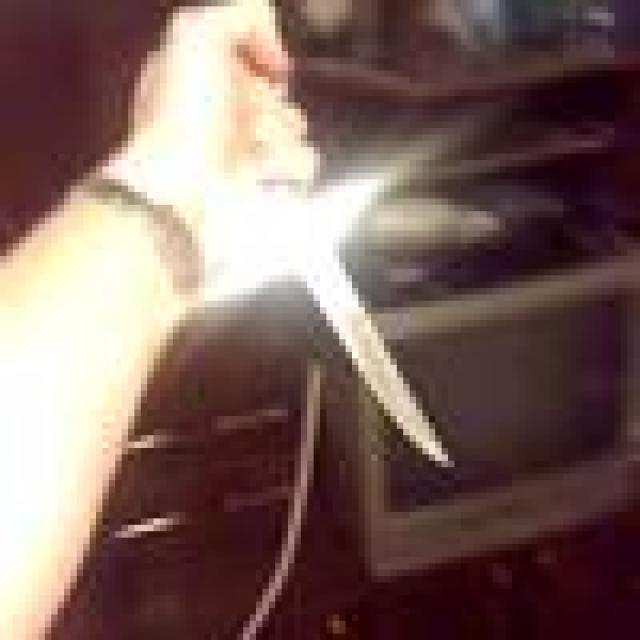knife: (234, 153, 452, 480)
